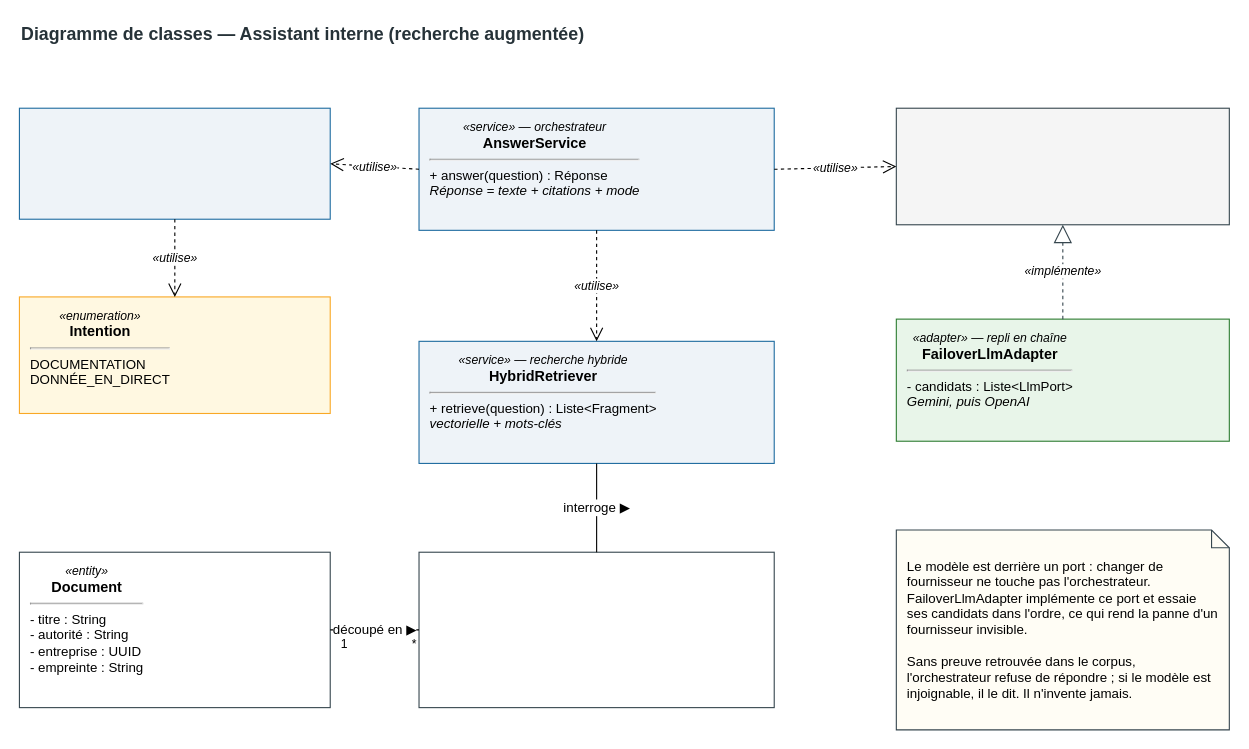
This 1249x749 diagram has some shape labels left out. Here are the shapes that lost their labels. From the top down, the centre of each, then its label:
point 174,163: «service» IntentRouter + route(question) : Intention
point 1062,166: «interface» (port) LlmPort + complete(consigne, question) : String
point 596,629: «entity» Fragment - section : String - contenu : Texte - vecteur : Vecteur(1536)
